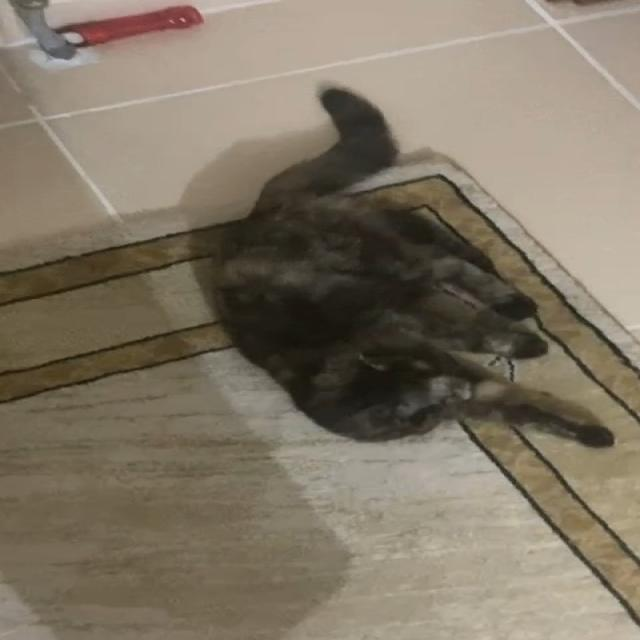authorized: (198, 84, 618, 448)
